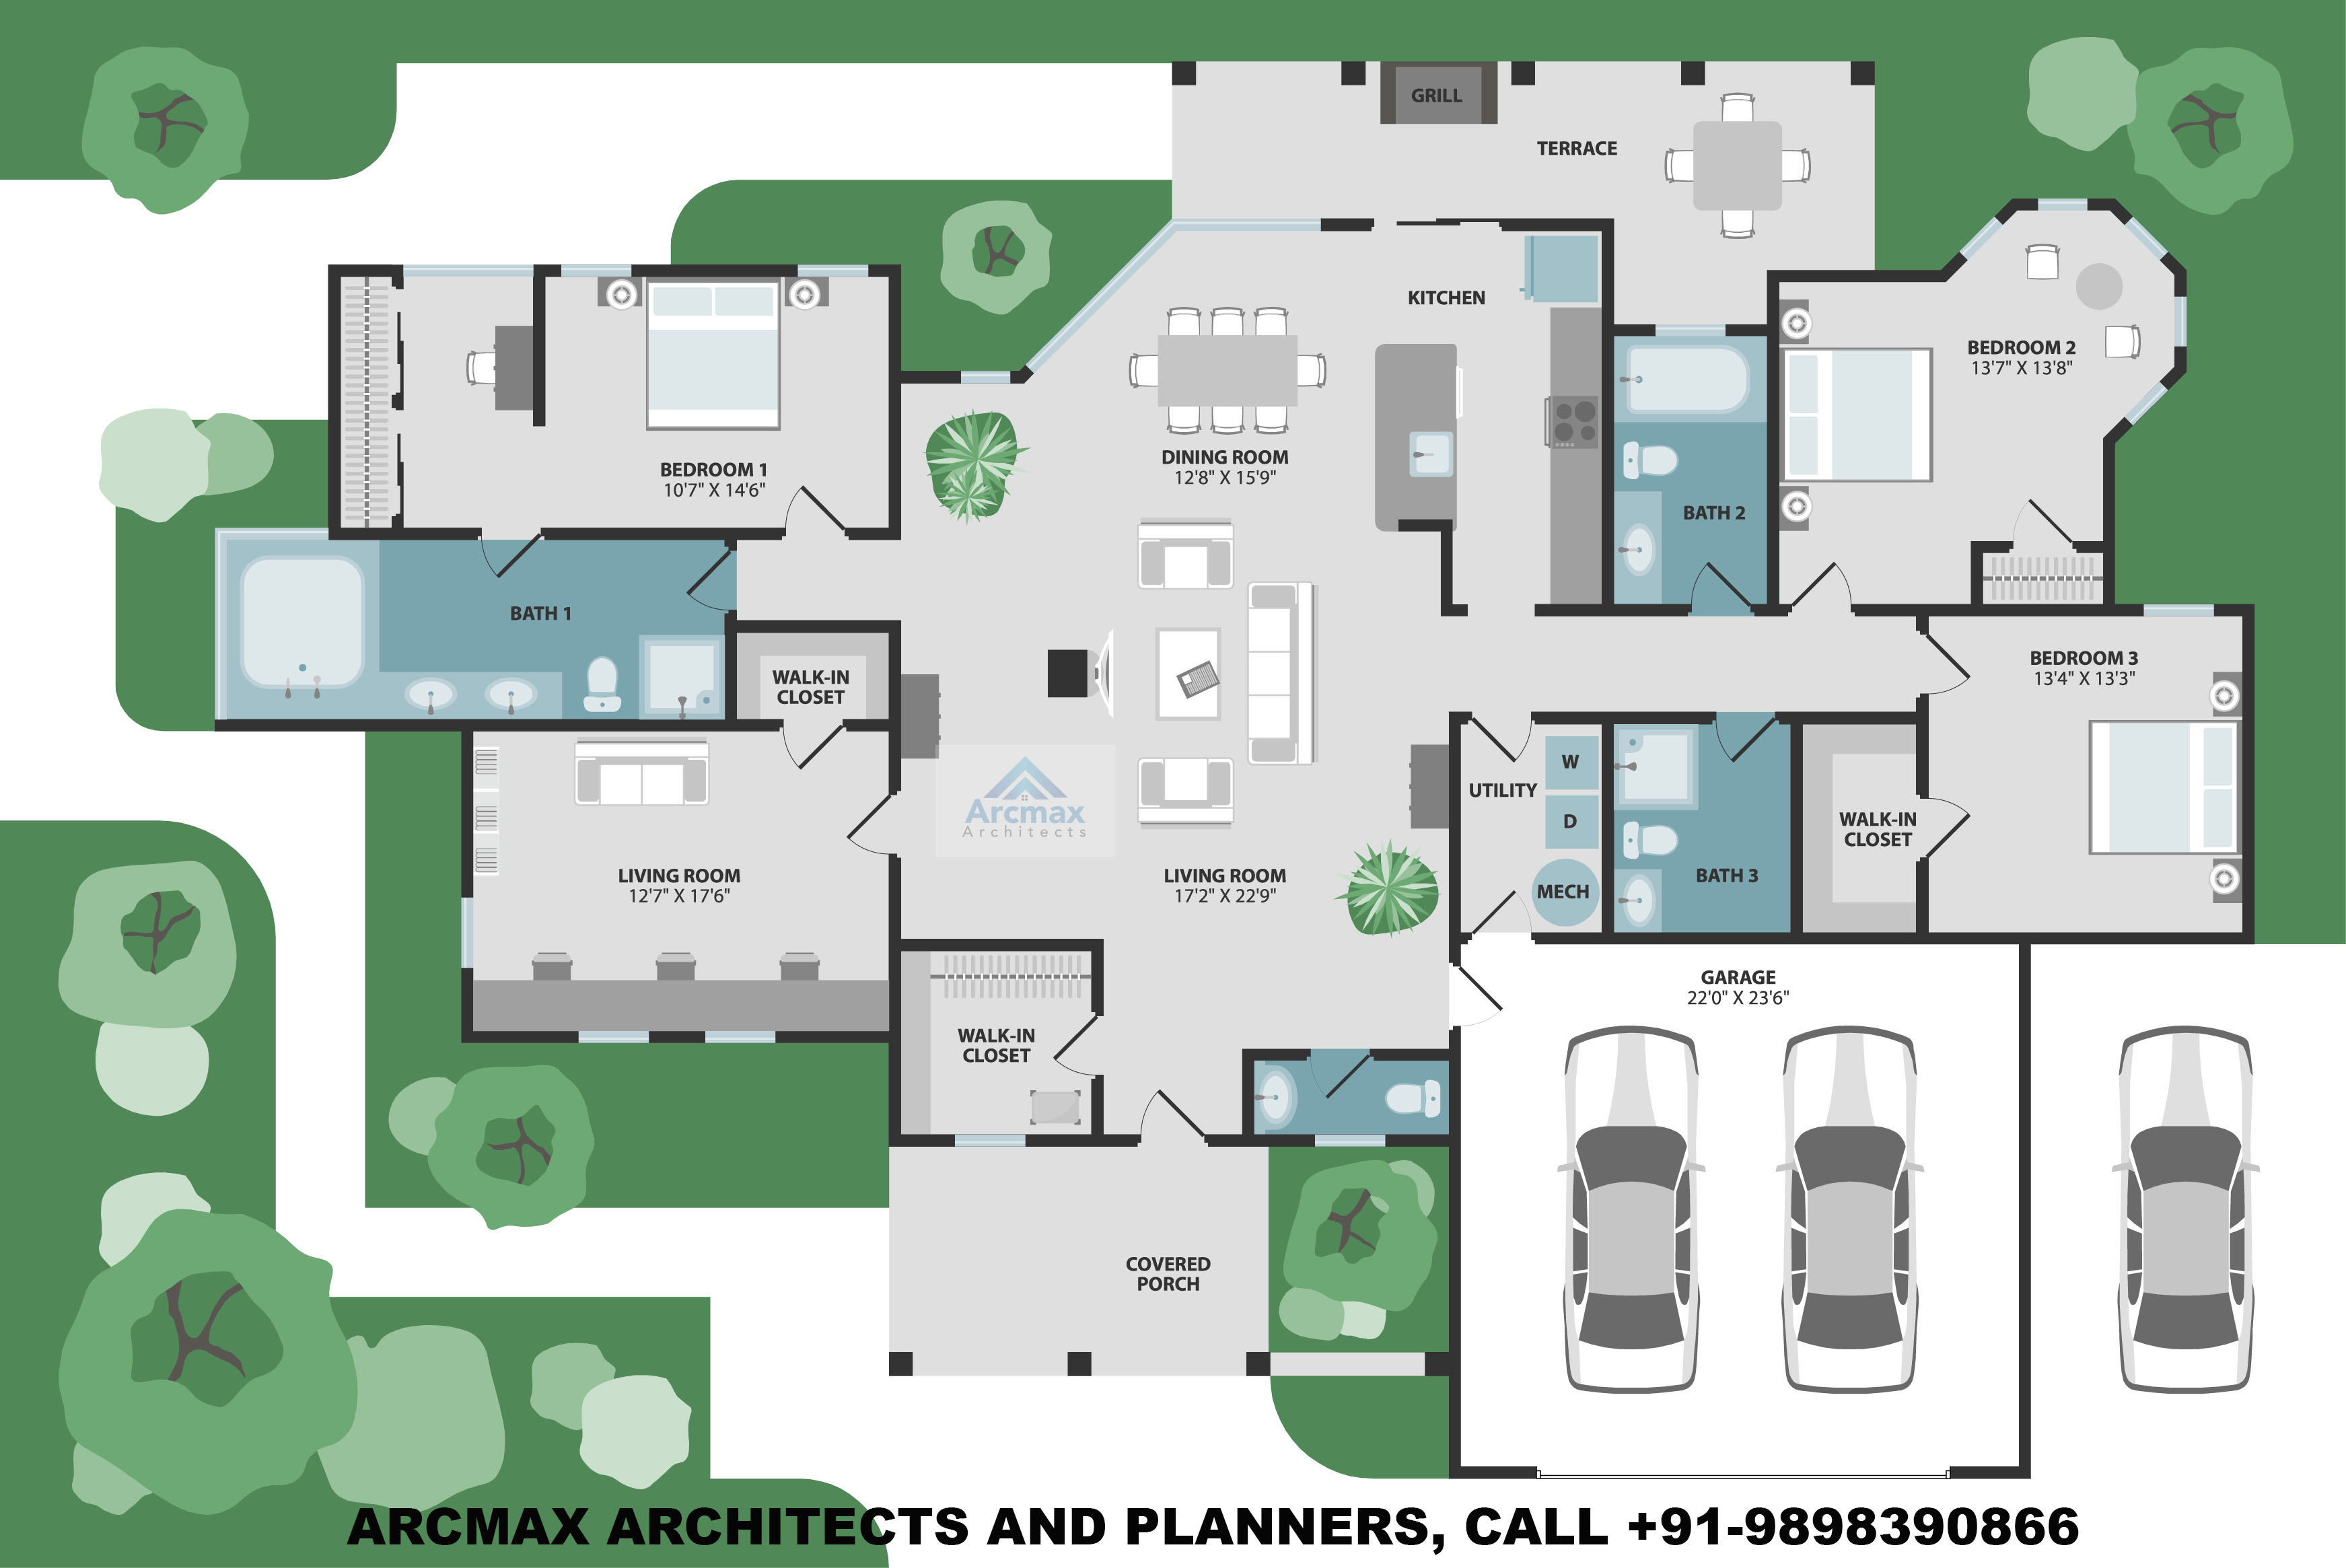door: (1139, 1087, 1204, 1150), (1919, 632, 1980, 696), (843, 791, 901, 857), (782, 719, 843, 773), (1449, 966, 1501, 1027), (1791, 560, 1853, 611), (682, 551, 733, 612), (1690, 558, 1751, 607), (1050, 1013, 1097, 1076), (1475, 885, 1531, 938), (1928, 796, 1973, 859), (481, 535, 544, 579), (1475, 717, 1531, 766), (1713, 719, 1774, 763), (1307, 1057, 1368, 1101), (785, 485, 840, 534), (2012, 497, 2071, 539)
